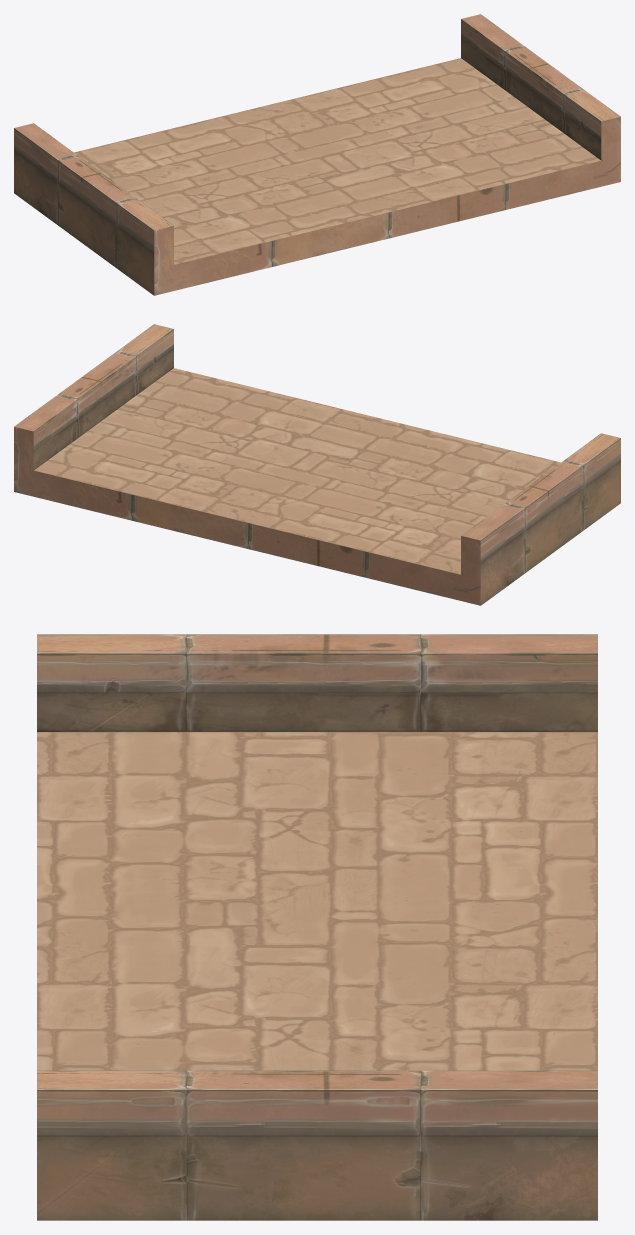
File: Padding.fbx
3 views of the same model, one above another, from view 1: azimuth 30°, elevation 25°; view 2: azimuth 150°, elevation 25°; view 3: azimuth 270°, elevation 25° (orthographic). The views are drawn at different scales.
Parts seen in each view (by area): view 1: Padding; view 2: Padding; view 3: Padding.
Boxes of the visible parts, x1,y1,x2,y2 form: Padding: (14,14,620,295); Padding: (14,324,620,605); Padding: (37,634,597,1220).
Bounding box in the file's own units: 961 × 128 × 500.
